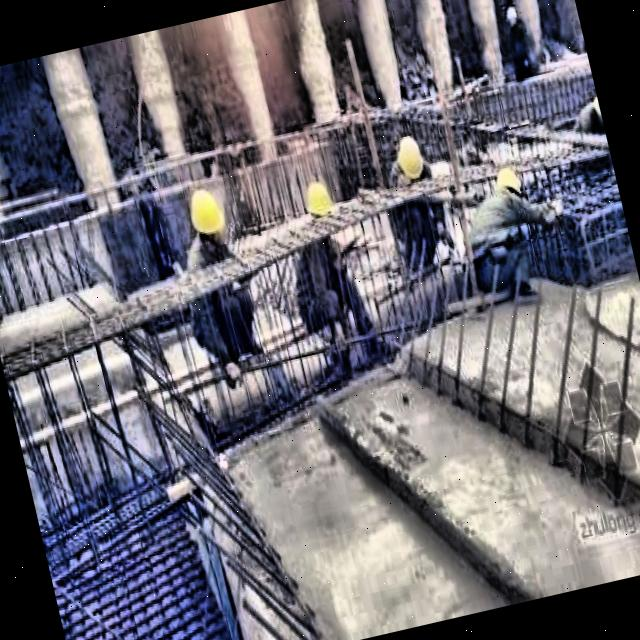helmet: (180, 180, 232, 248), (296, 177, 344, 246), (390, 126, 436, 196), (493, 159, 528, 214)
